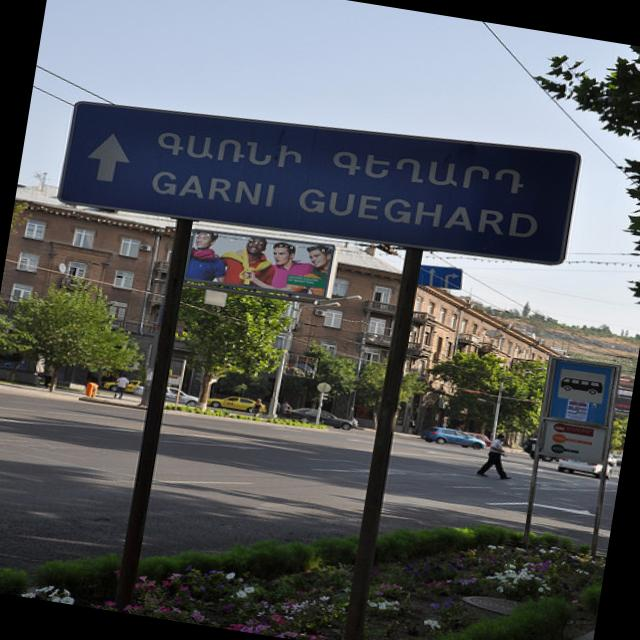Vehicle: (281, 404, 357, 432), (420, 424, 488, 452), (207, 392, 257, 414), (556, 458, 603, 479), (102, 375, 144, 396), (167, 386, 200, 410), (560, 462, 597, 480), (462, 430, 494, 448), (606, 452, 622, 468)
